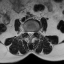CCS_normal: (29, 29, 31, 38)
LFS_stenosis: (33, 28, 36, 35)
LLS_normal: (31, 28, 33, 37)
RFS_normal: (24, 28, 27, 35)
RLS_normal: (27, 29, 29, 37)
